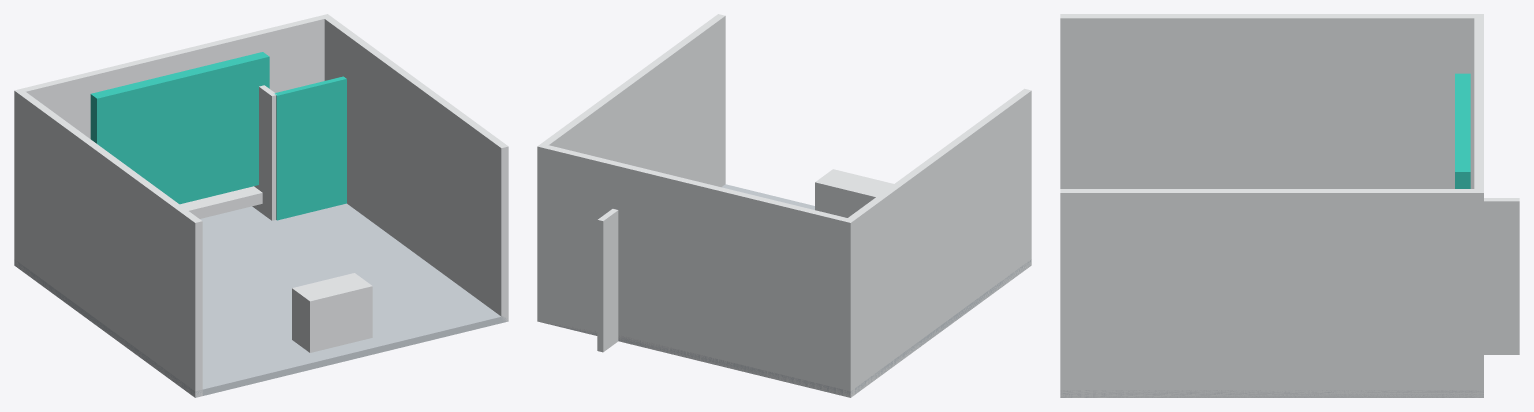
3 renders of one model, left to right at view 1: azimuth 30°, elevation 25°; view 2: azimuth 150°, elevation 25°; view 3: azimuth 270°, elevation 25°, orthographic. The views are drawn at different scales.
Visible parts, largest first — view 1: Exhibition Booth Concept; view 2: Exhibition Booth Concept; view 3: Exhibition Booth Concept.
Part boxes in pixels (x1,y1,x2,y2): Exhibition Booth Concept: (14,14,508,397); Exhibition Booth Concept: (537,14,1031,397); Exhibition Booth Concept: (1060,14,1519,397).
Size of the model in its own units: 6 by 3.2 by 6.51.
